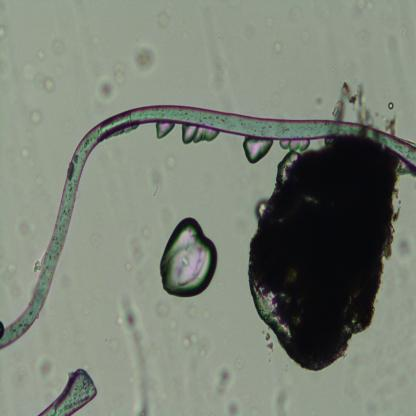Air bubble: (158, 213, 222, 301), (242, 135, 274, 166), (179, 124, 221, 146), (153, 122, 177, 140)
Background material: (247, 135, 404, 374), (119, 293, 158, 415), (334, 79, 374, 125), (197, 25, 224, 91), (124, 228, 154, 282), (21, 60, 54, 94), (41, 22, 67, 58), (0, 260, 23, 299), (211, 365, 236, 399), (133, 44, 157, 77), (33, 353, 58, 384), (157, 298, 180, 330), (14, 210, 35, 240), (108, 60, 132, 85), (159, 7, 181, 33), (97, 76, 116, 104), (351, 25, 370, 50), (275, 384, 290, 414), (22, 130, 36, 162), (160, 151, 181, 170), (396, 237, 413, 260), (384, 111, 399, 137), (151, 169, 164, 198), (266, 40, 288, 57), (350, 3, 376, 17), (288, 6, 306, 22), (182, 332, 199, 347), (30, 108, 42, 126), (35, 176, 45, 188), (240, 358, 247, 370), (388, 102, 394, 110)
Microfibre: (0, 103, 416, 346), (37, 366, 97, 415)
